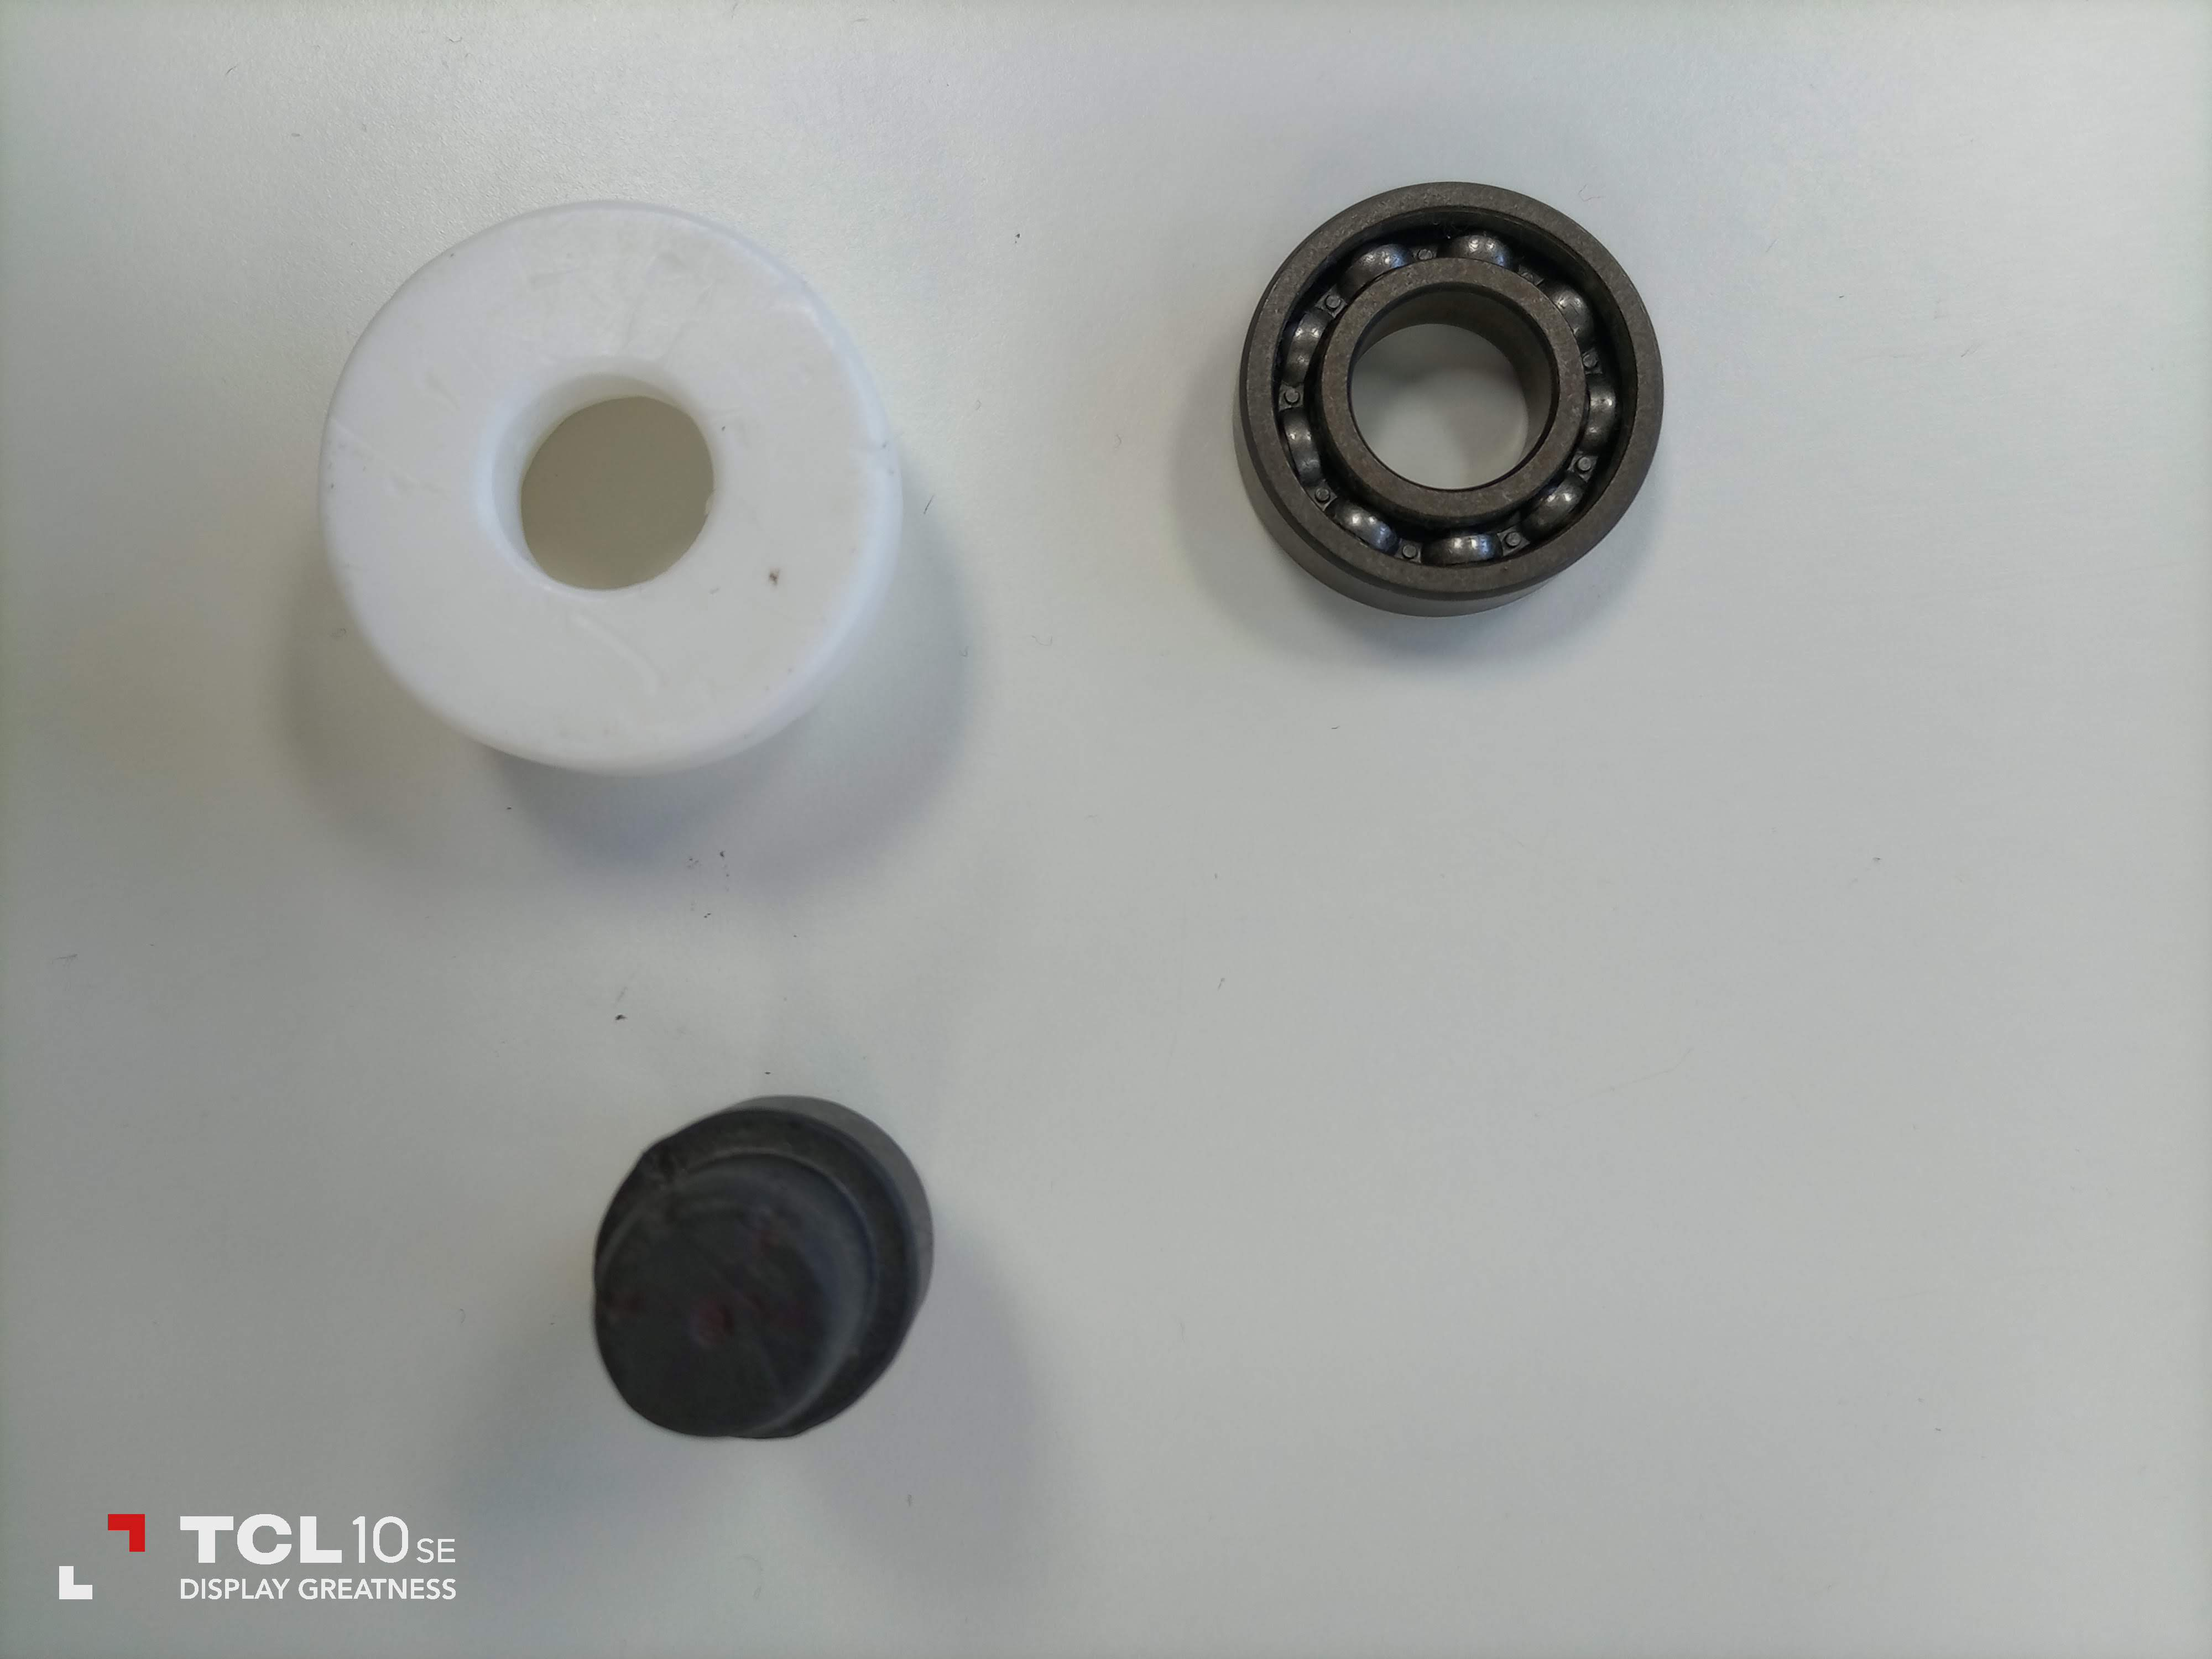Ardatza: (592, 1107, 937, 1432)
Roda: (1242, 179, 1658, 613)
Tapa: (320, 197, 923, 782)
